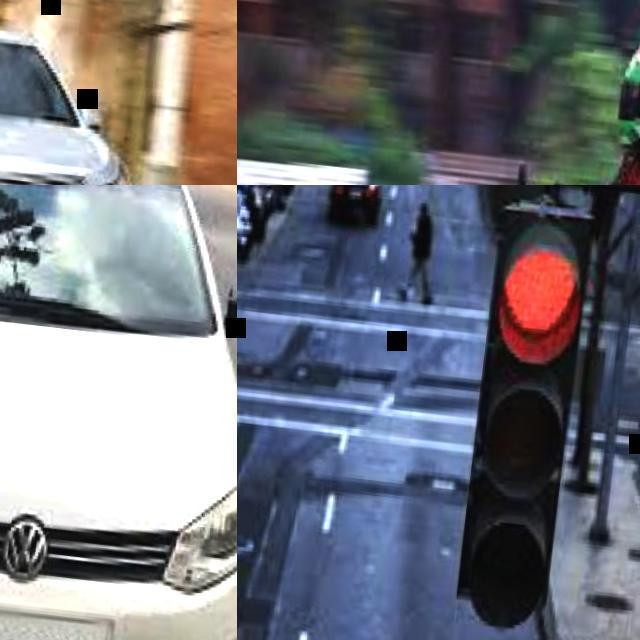car: (246, 159, 634, 639), (1, 149, 240, 624)
